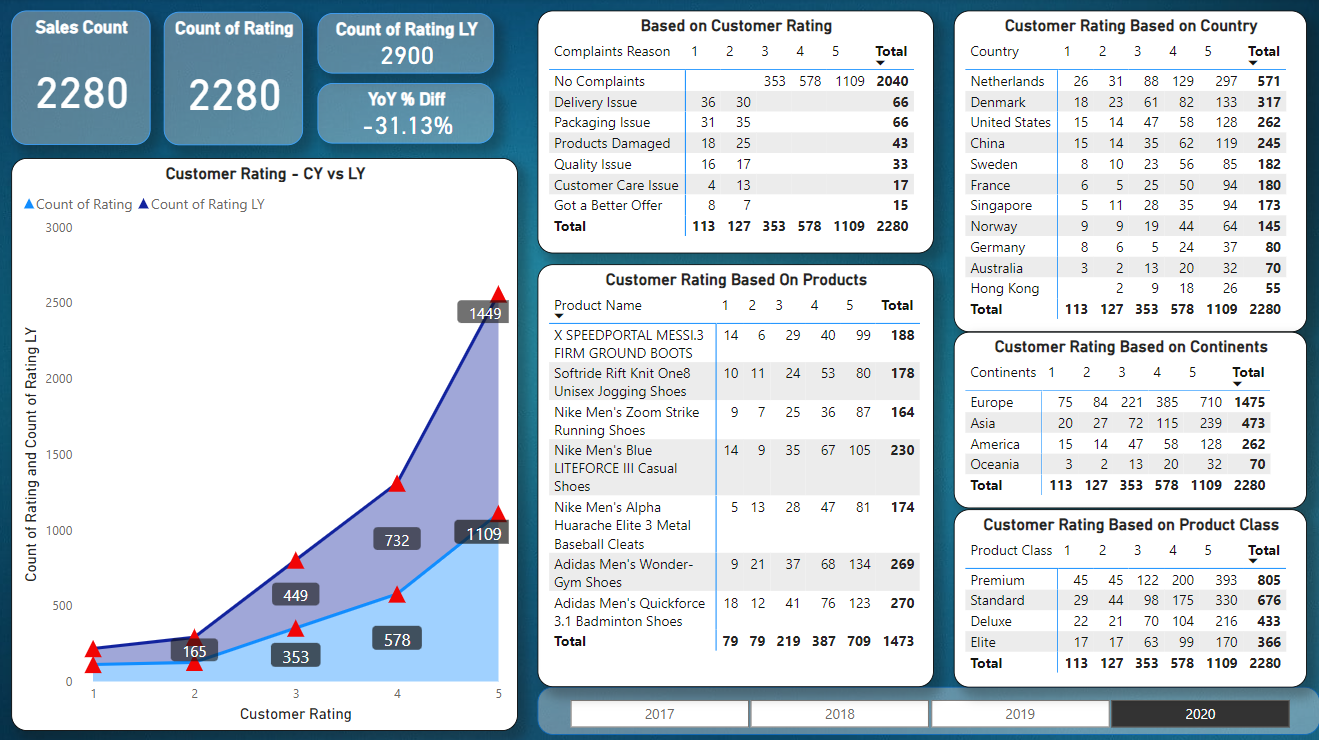

What the dashboard file says about the page in this screenshot:
{"tool":"powerbi","page":{"name":"Slide 2(Final) ","canvas":[1280,720],"ordinal":1},"visuals":[{"type":"card","title":"Sales Count","fields":{"Values":["Measures Table.Sales Count"]},"box":[16,12,134.6,129.2],"z":0},{"type":"card","title":"Count of Rating","fields":{"Values":["Measures Table.Count of Rating"]},"box":[162.5,13.3,134.6,129],"z":1000},{"type":"slicer","title":"Years","fields":{"Values":["Calender Table.Year"]},"box":[523.6,664.8,755.4,46.6],"z":2000},{"type":"card","title":"Count of Rating LY","fields":{"Values":["Measures Table.Count of Rating LY"]},"box":[311.7,14.7,170.5,58.6],"z":3000},{"type":"pivotTable","title":"Based on Customer Rating","fields":{"Rows":["Sales Data.Complaints Reason"],"Columns":["Sales Data.Customer Rating"],"Values":["Measures Table.Count of Rating"]},"box":[523.6,12,382.3,234.5],"z":4000},{"type":"pivotTable","title":"Customer Rating Based On Products","fields":{"Rows":["Sales Data.Product Name"],"Columns":["Sales Data.Customer Rating"],"Values":["Measures Table.Count of Rating"]},"box":[523.6,257.1,382.3,407.7],"z":5000},{"type":"card","title":"YoY % Diff","fields":{"Values":["Measures Table.YoY % Diff"]},"box":[311.7,82.6,170.5,58.6],"z":6000},{"type":"stackedAreaChart","title":"Customer Rating - CY vs LY","fields":{"Category":["Sales Data.Customer Rating"],"Y":["Measures Table.Count of Rating","Measures Table.Count of Rating LY"]},"box":[16,154.5,488.9,552.9],"z":7000},{"type":"pivotTable","title":"Customer Rating Based on Country","fields":{"Columns":["Sales Data.Customer Rating"],"Values":["Measures Table.Count of Rating"],"Rows":["Sales Data.Country"]},"box":[924.6,12,341.1,310.4],"z":8000},{"type":"pivotTable","title":"Customer Rating Based on Continents","fields":{"Columns":["Sales Data.Customer Rating"],"Values":["Measures Table.Count of Rating"],"Rows":["Location Details.Continents"]},"box":[924.6,322.4,341.1,170.5],"z":9000},{"type":"pivotTable","title":"Customer Rating Based on Product Class","fields":{"Columns":["Sales Data.Customer Rating"],"Values":["Measures Table.Count of Rating"],"Rows":["Sales Data.Product Class"]},"box":[924.6,492.9,341.1,171.9],"z":10000}]}

Visuals, with their boxes in screenshot pixels (x1, y1, x2, y2), scaled from the page's 1280x720 canvas onto the 1319x740 screenshot:
"Sales Count" card: (16,12,155,145)
"Count of Rating" card: (167,14,306,146)
"Years" slicer: (540,683,1318,731)
"Count of Rating LY" card: (321,15,497,75)
"Based on Customer Rating" pivotTable: (540,12,934,253)
"Customer Rating Based On Products" pivotTable: (540,264,934,683)
"YoY % Diff" card: (321,85,497,145)
"Customer Rating - CY vs LY" stackedAreaChart: (16,159,520,727)
"Customer Rating Based on Country" pivotTable: (953,12,1304,331)
"Customer Rating Based on Continents" pivotTable: (953,331,1304,507)
"Customer Rating Based on Product Class" pivotTable: (953,507,1304,683)
